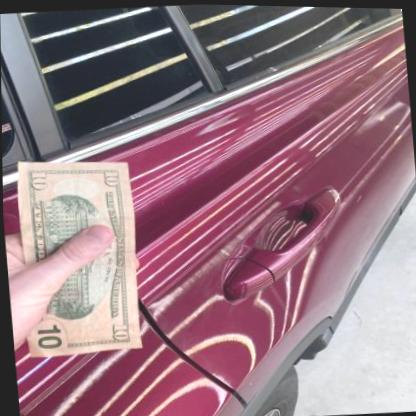ten-back: (16, 161, 141, 358)
